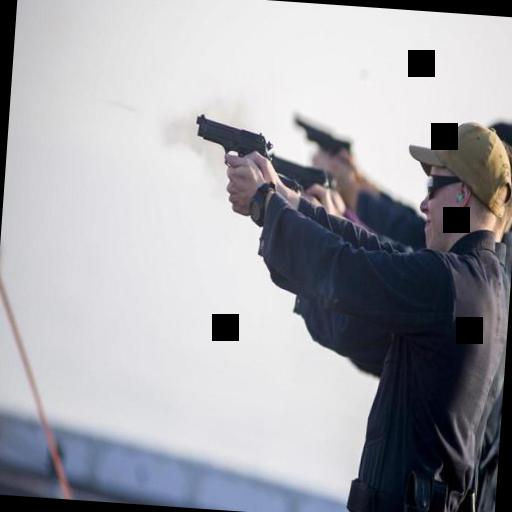Handgun: (188, 108, 270, 174), (264, 146, 336, 206), (285, 106, 353, 161)
